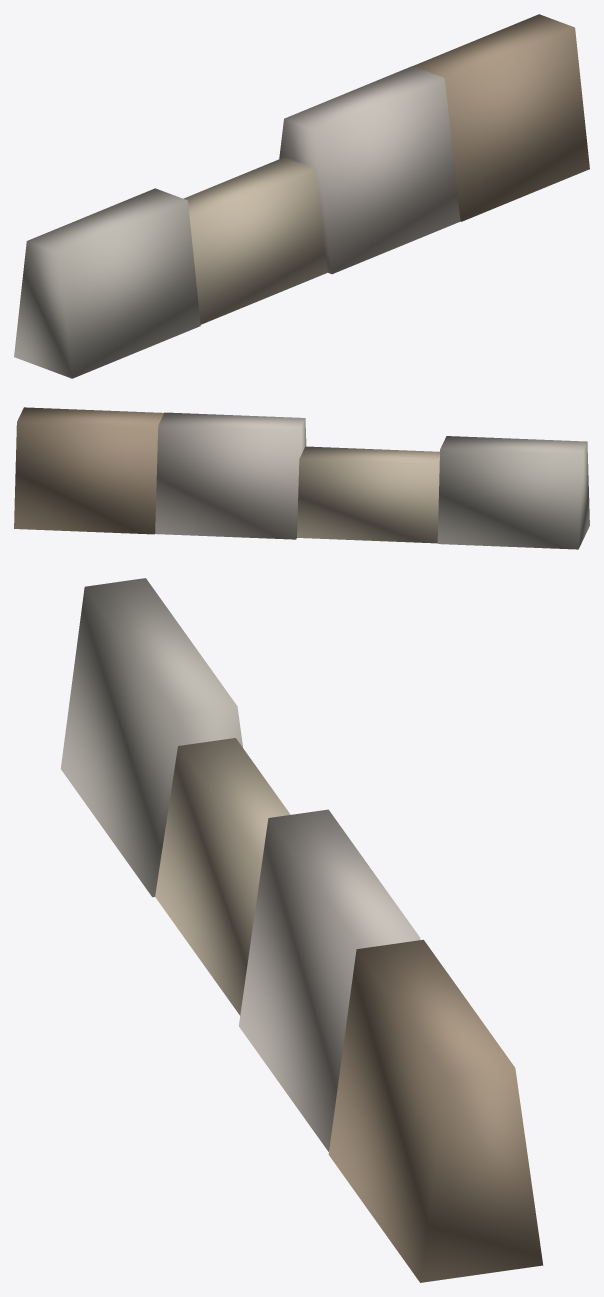
The model's file is farm_-39_-49_collision.glb.
3 views of the same model, one above another, from view 1: azimuth 30°, elevation 25°; view 2: azimuth 150°, elevation 25°; view 3: azimuth 270°, elevation 25° (orthographic). The views are drawn at different scales.
Visible parts, largest first — view 1: geometry_0; view 2: geometry_0; view 3: geometry_0.
Part boxes in pixels (x1,y1,x2,y2): geometry_0: (14,14,589,378); geometry_0: (14,407,589,549); geometry_0: (60,578,543,1282).
Bounding box in the file's own units: 6.18 × 1.39 × 2.64.
